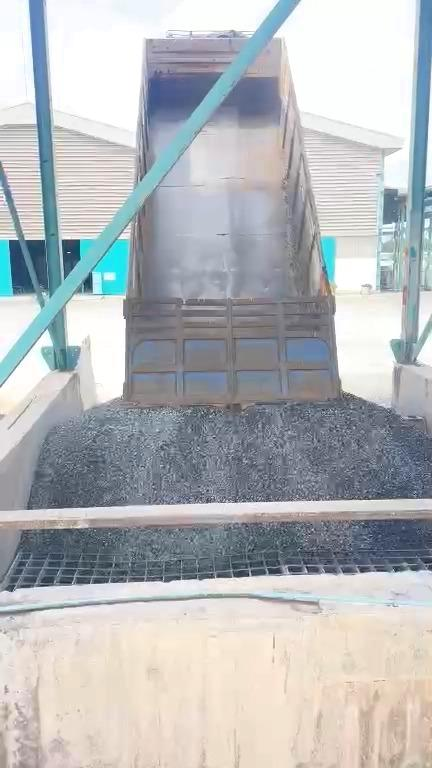gravel: (30, 395, 432, 507), (27, 524, 432, 556)
